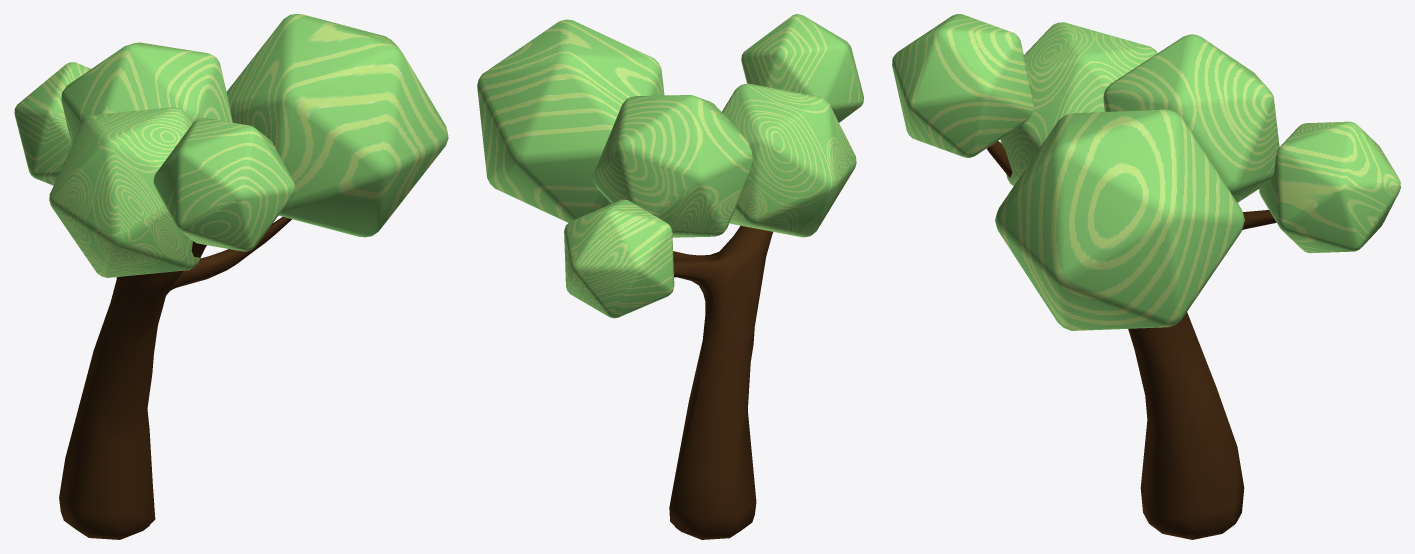
File: arbol1.FBX
3 renders of one model, left to right at view 1: azimuth 30°, elevation 25°; view 2: azimuth 150°, elevation 25°; view 3: azimuth 270°, elevation 25°, orthographic. The views are drawn at different scales.
Visible parts, largest first — view 1: GeoSphere014; view 2: GeoSphere014; view 3: GeoSphere014.
Part boxes in pixels (x1,y1,x2,y2): GeoSphere014: (14,14,448,539); GeoSphere014: (477,14,863,539); GeoSphere014: (892,14,1400,539).
Size of the model in its own units: 10.22 by 11.34 by 12.63.
2 materials, 1 textured.
